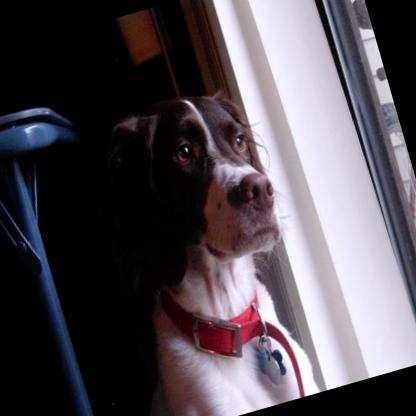Brittany_spaniel: (76, 73, 334, 416)
